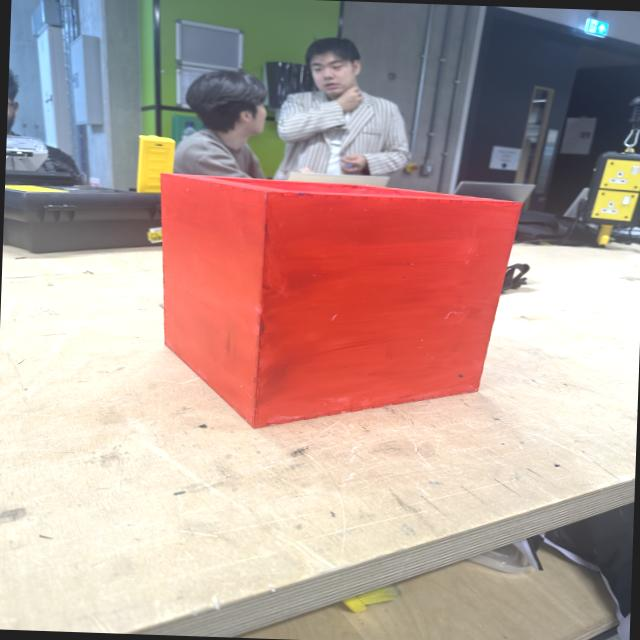red_bin: (150, 170, 523, 436)
